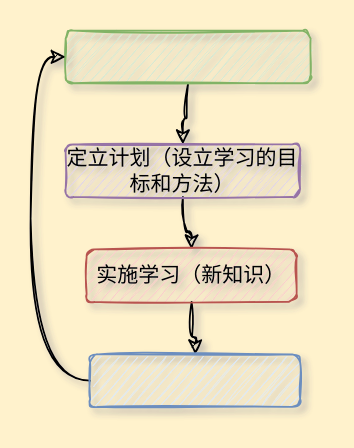
Some shapes in this 354 by 448 pixel diagram are drawn without their labels. The shapes that lost their labels are listed below. From the top down, each one's centre as x and y in pixels, then its label:
At (187,56): "主动构建知识（旧知识）".
At (194,380): "回顾整理（融入体系，完善体系）".
